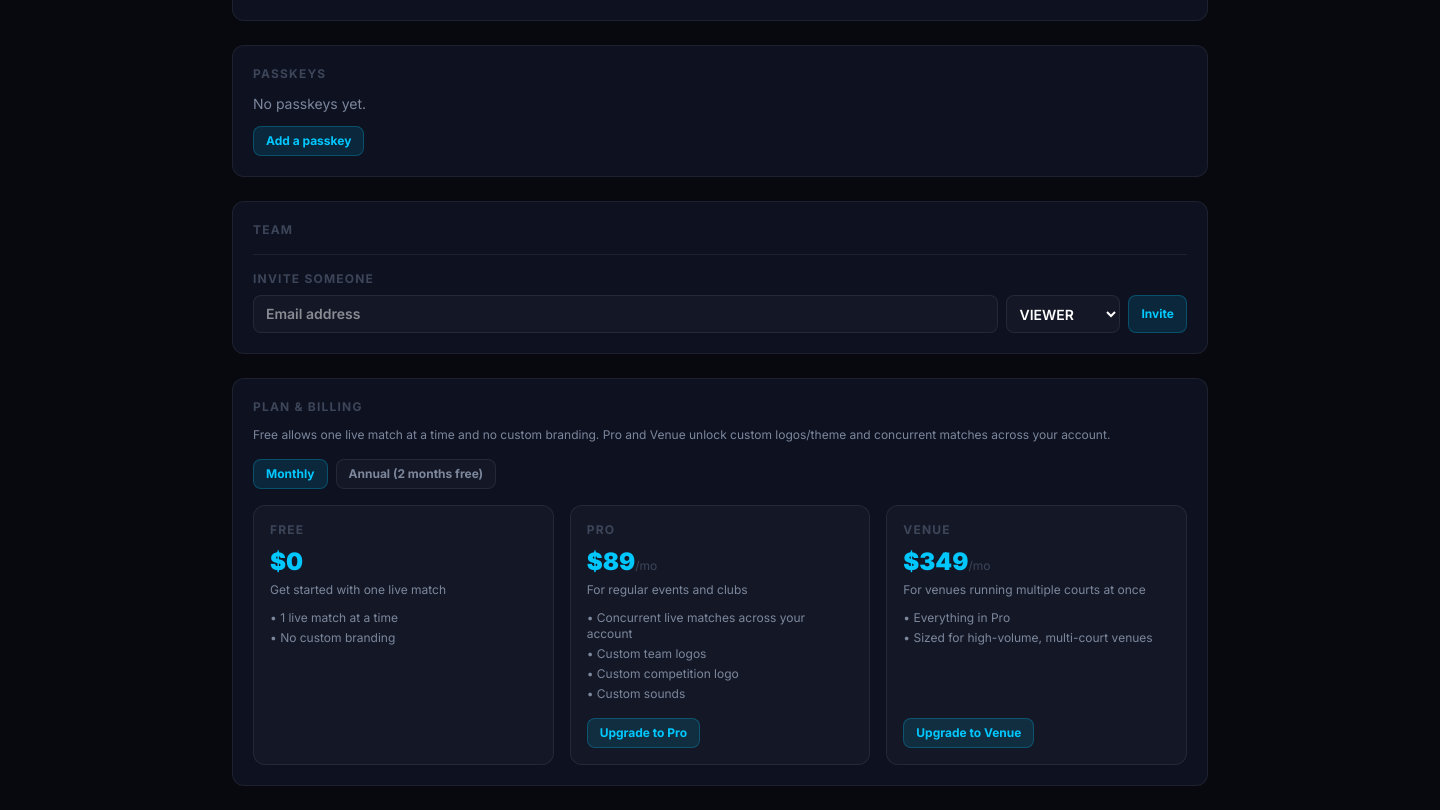
Test case: AccountPage › switches plan in place and shows a notice when the checkout responds with 'switched'
(page scrolled)
Click the button "Upgrade to Pro". click: (643, 733)
box: [587,718,700,748]
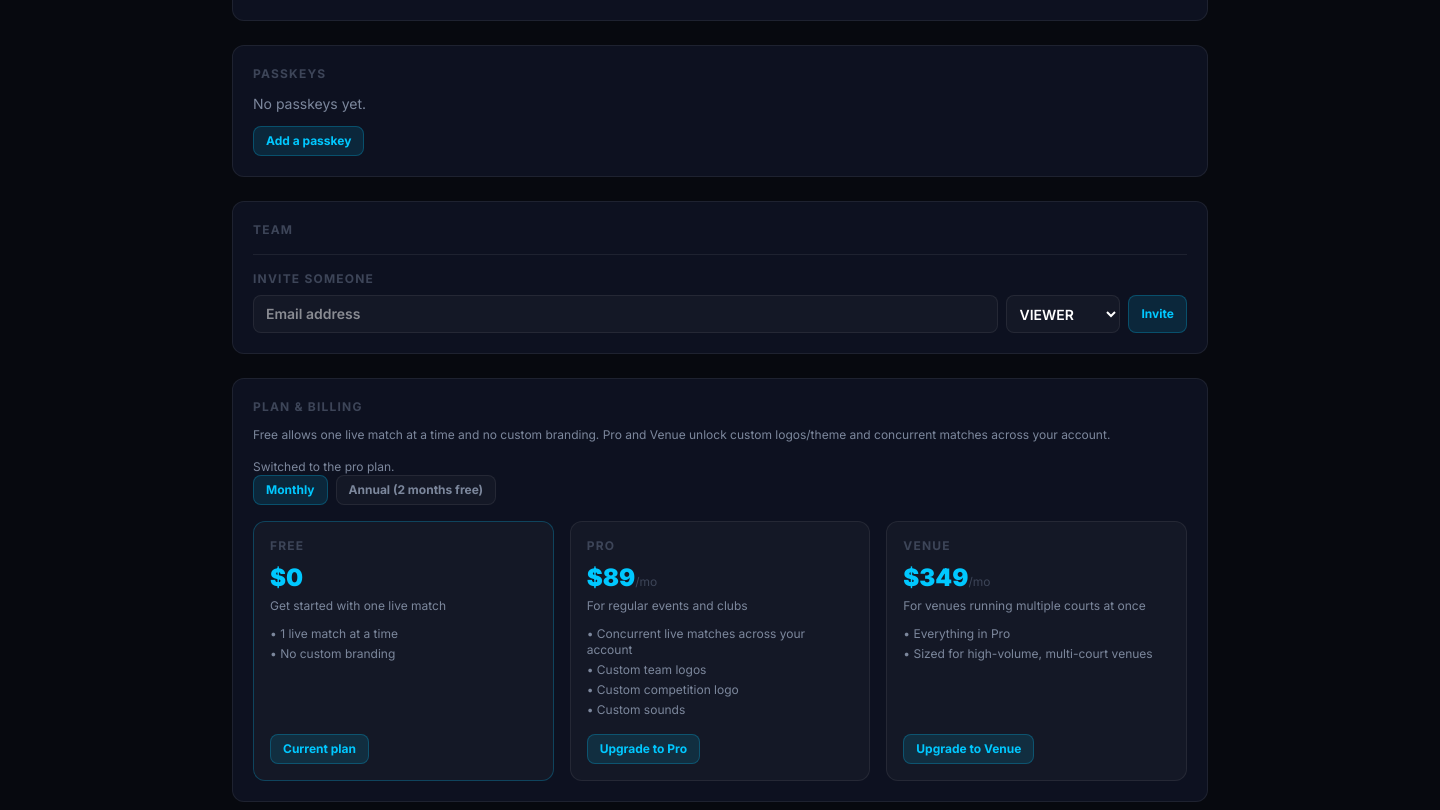
Result: the text "Switched to the pro plan." is shown at [253,459,394,474]
